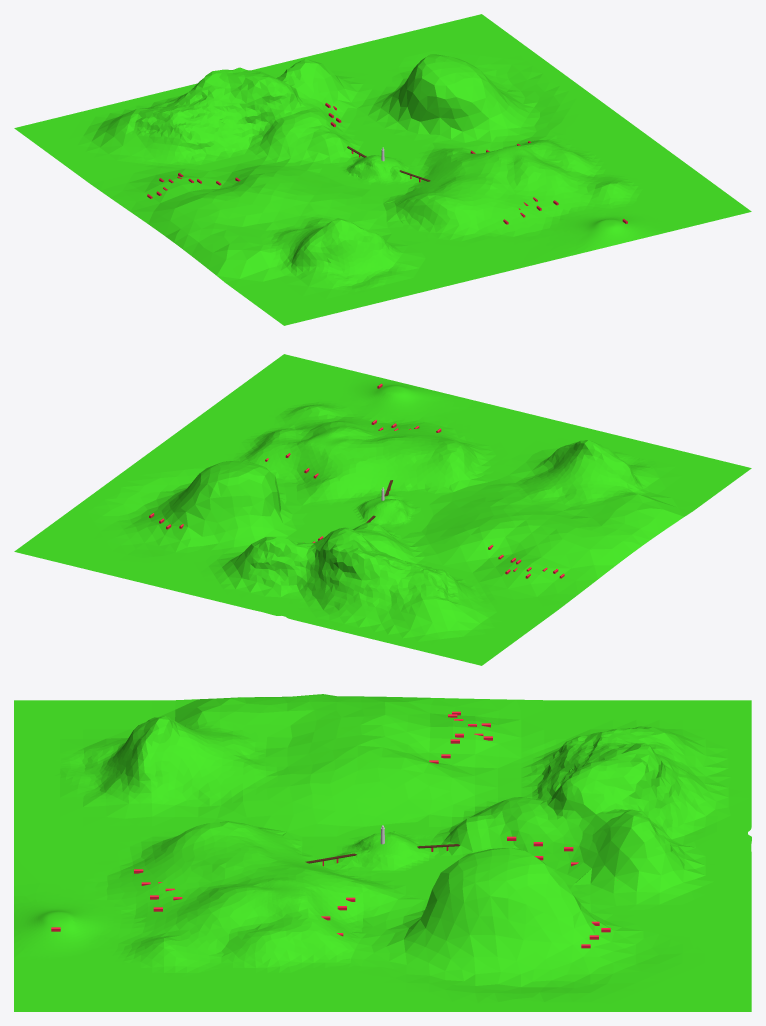
File: map_test3.glb
The picture shows the model from 3 angles, top to bottom: view 1: azimuth 30°, elevation 25°; view 2: azimuth 150°, elevation 25°; view 3: azimuth 270°, elevation 25°; orthographic projection. The views are drawn at different scales.
Visible parts, largest first — view 1: terrain2 -col; view 2: terrain2 -col; view 3: terrain2 -col, houses -col.
Boxes of the visible parts, bbox=[...] form: terrain2 -col: bbox=[14, 14, 751, 325]; terrain2 -col: bbox=[14, 354, 751, 665]; terrain2 -col: bbox=[14, 694, 751, 1011]; houses -col: bbox=[51, 711, 610, 948].
Bounding box in the file's own units: 1000 × 109 × 1000.
